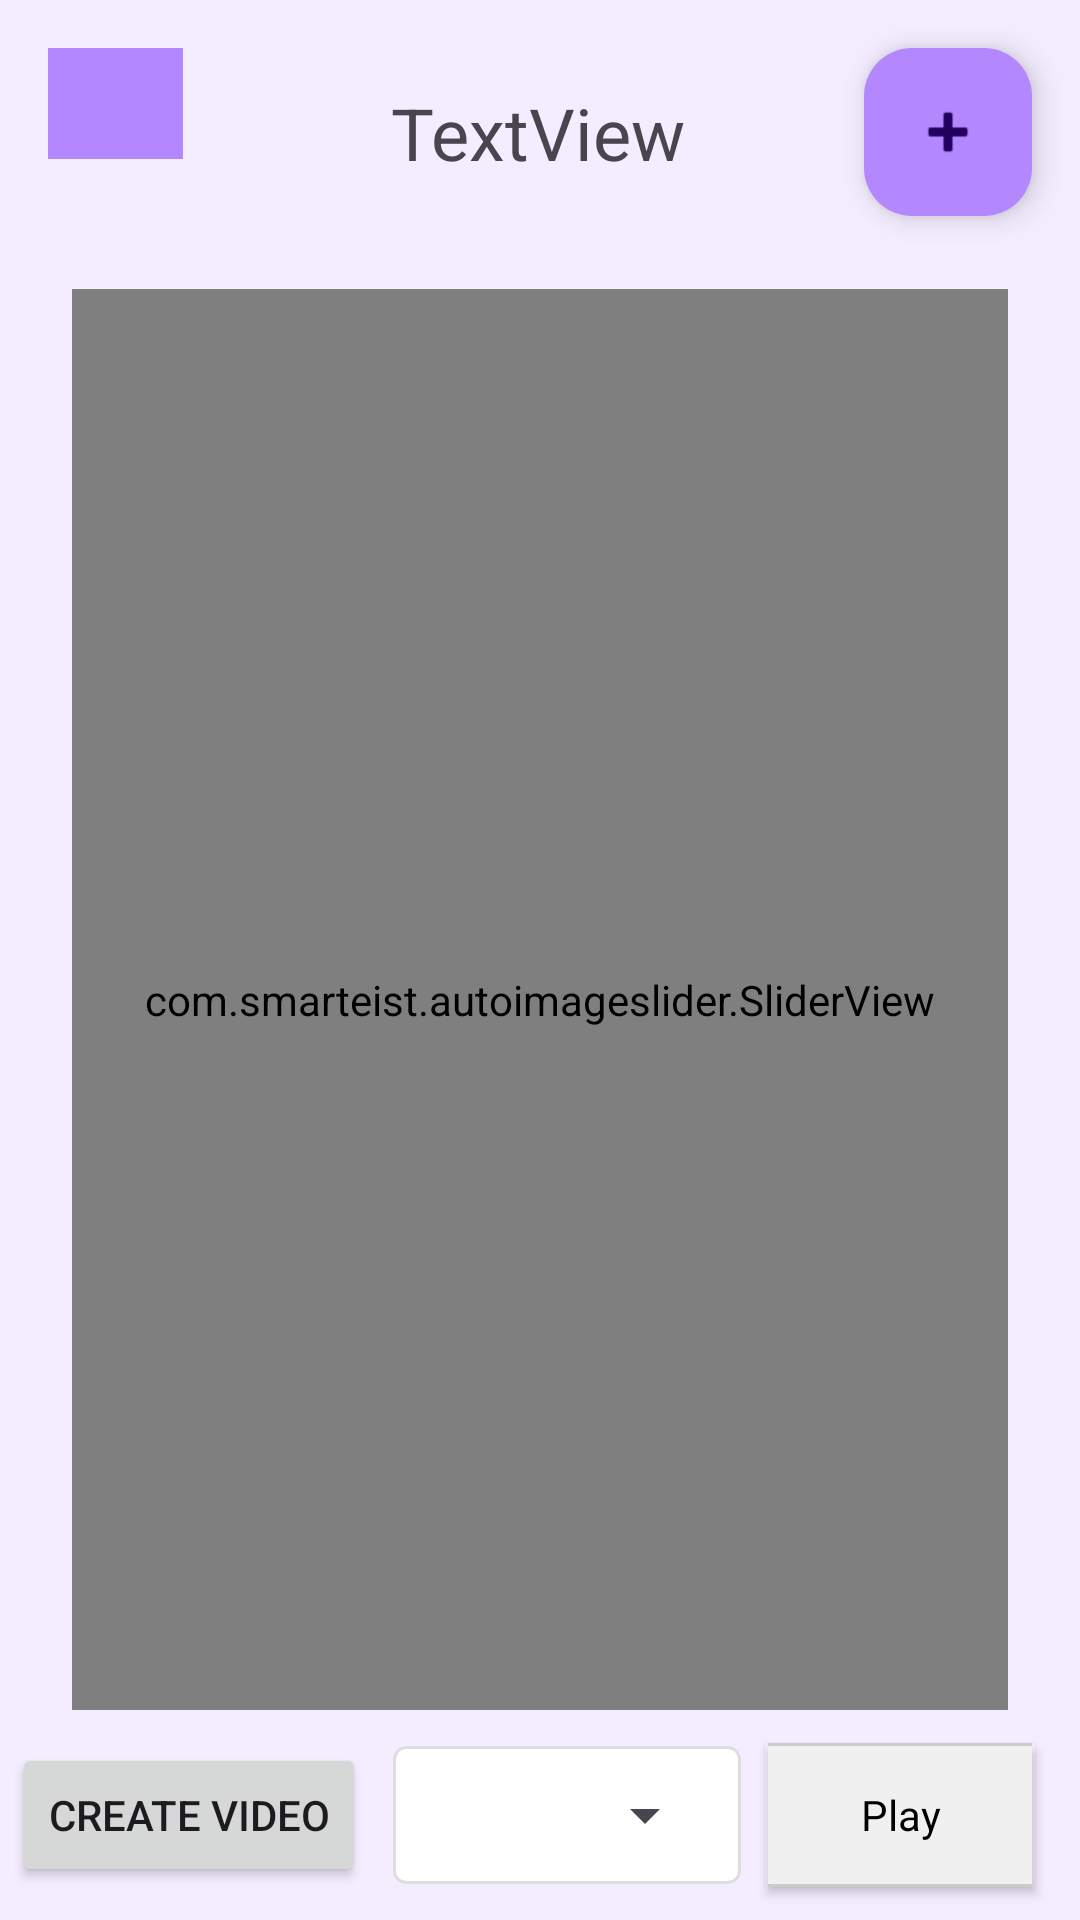

Icon bounding boxes for this 1080 × 1920 phone screenshot, format [x1=x1, y1=y1, x2=x2, y2=y2]:
add: [x1=864, y1=48, x2=1032, y2=216]
